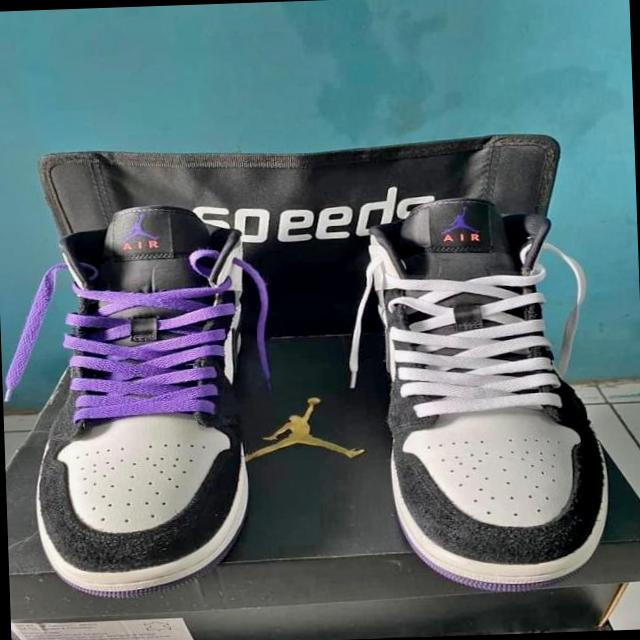nike_fake_jordan: (364, 191, 615, 598), (21, 200, 262, 599)
